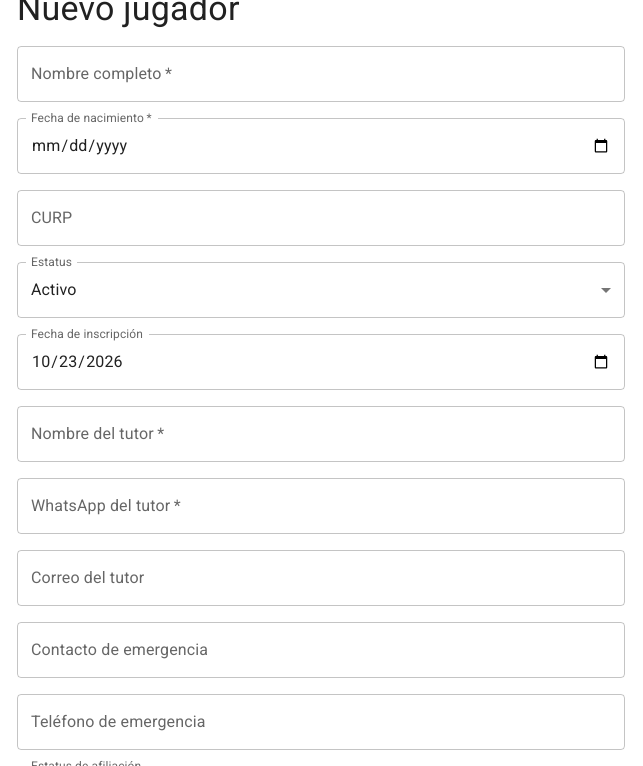
Scenario: a failed save surfaces the error
Type "X" into the field labelled "Nombre completo *". click: (321, 74)
box: [17,46,625,102]
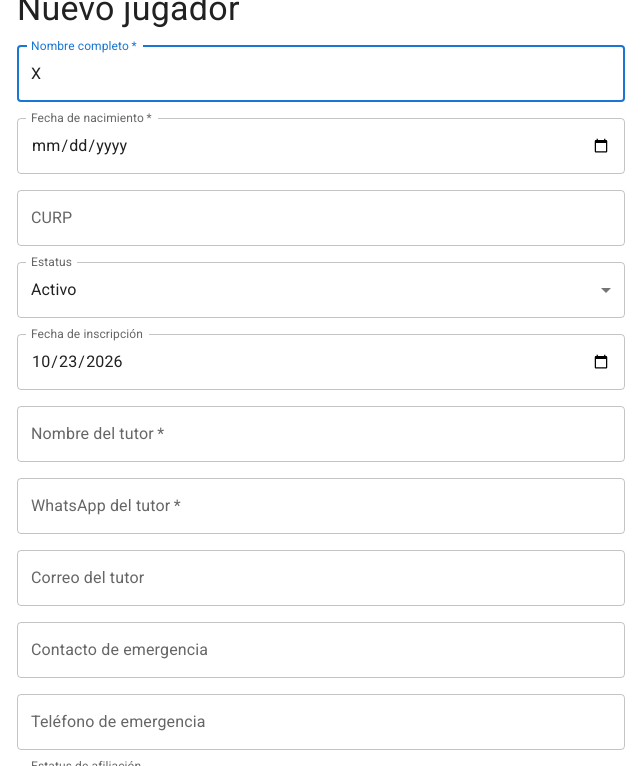
Type "2015-06-10" into the date field labelled "Fecha de nacimiento *". click: (321, 146)
box: [17,118,625,174]
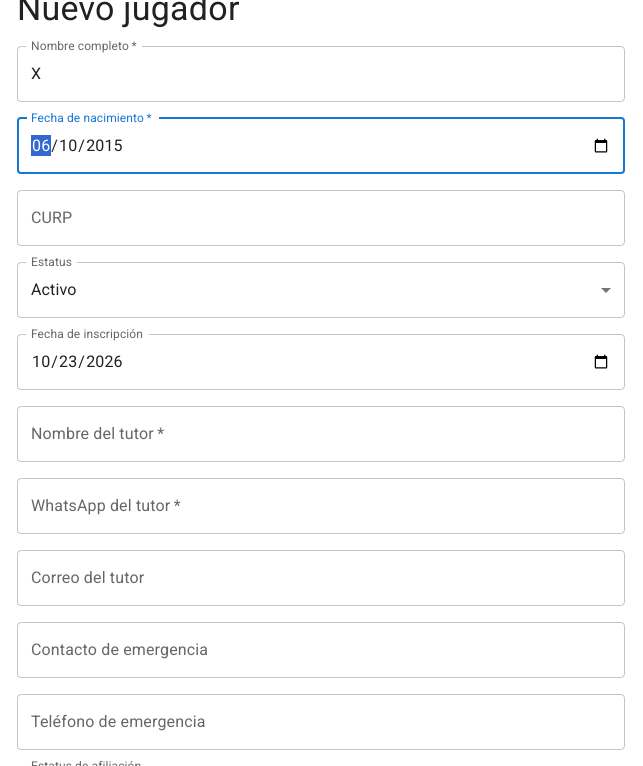
Type "T" into the field labelled "Nombre del tutor *". click: (321, 434)
box: [17,406,625,462]
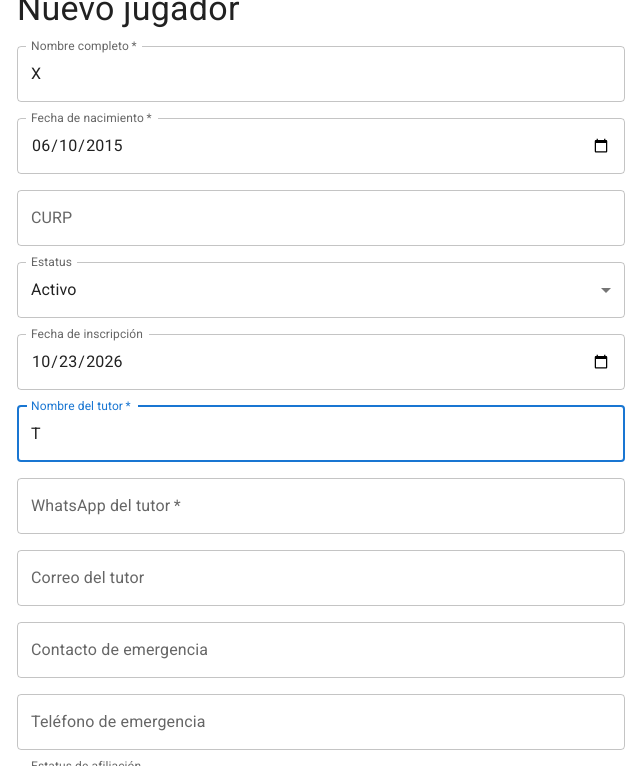
Type "0" into the field labelled "WhatsApp del tutor *". click: (321, 506)
box: [17,478,625,534]
(page scrolled)
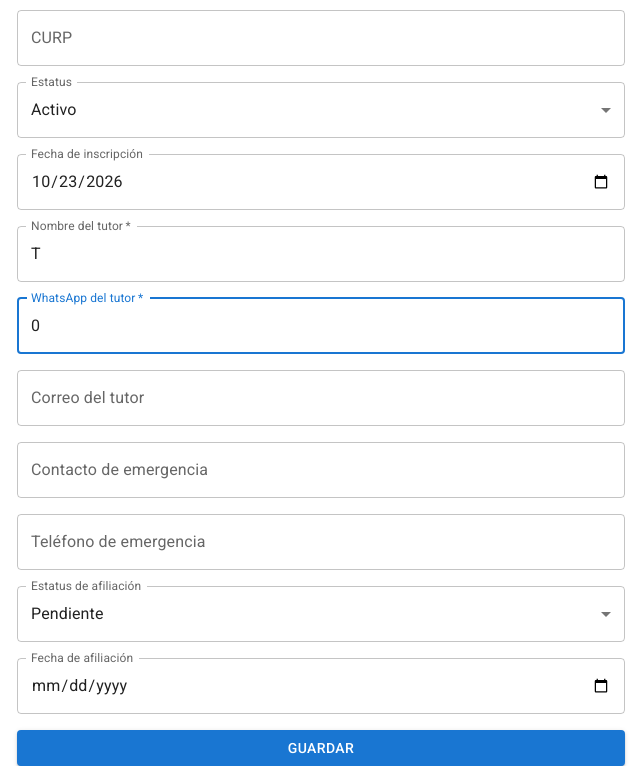
Click the button "Guardar". click: (321, 748)
box: [17,730,625,765]
(page scrolled)
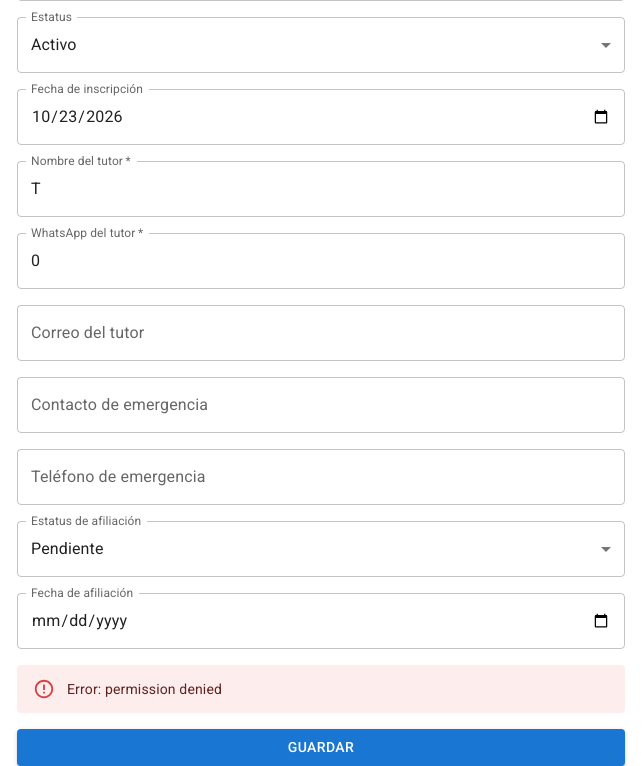
Expected: the message shows "permission denied", [67,681,222,697]
